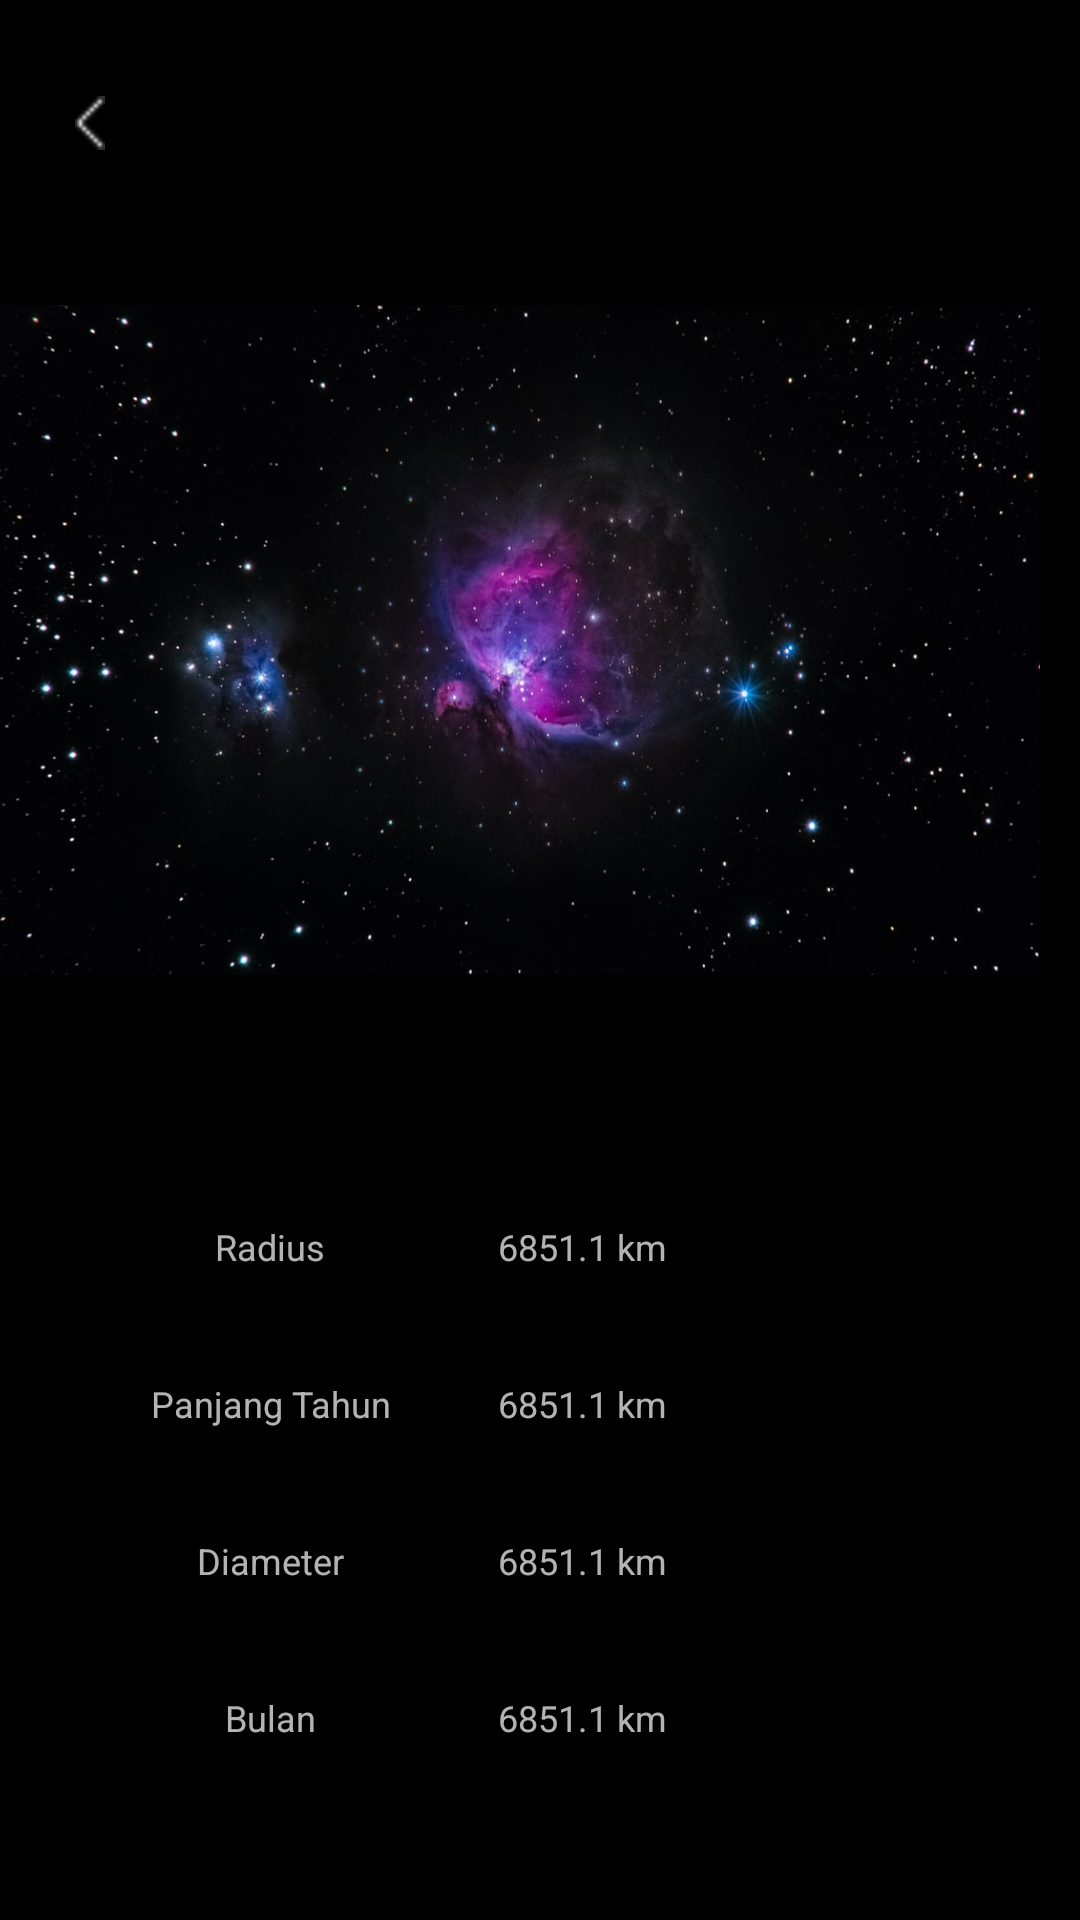

Where icons sit on this 1080*1920 app screen, as (x1, y1, x2, y2):
back: (75, 96, 105, 150)
